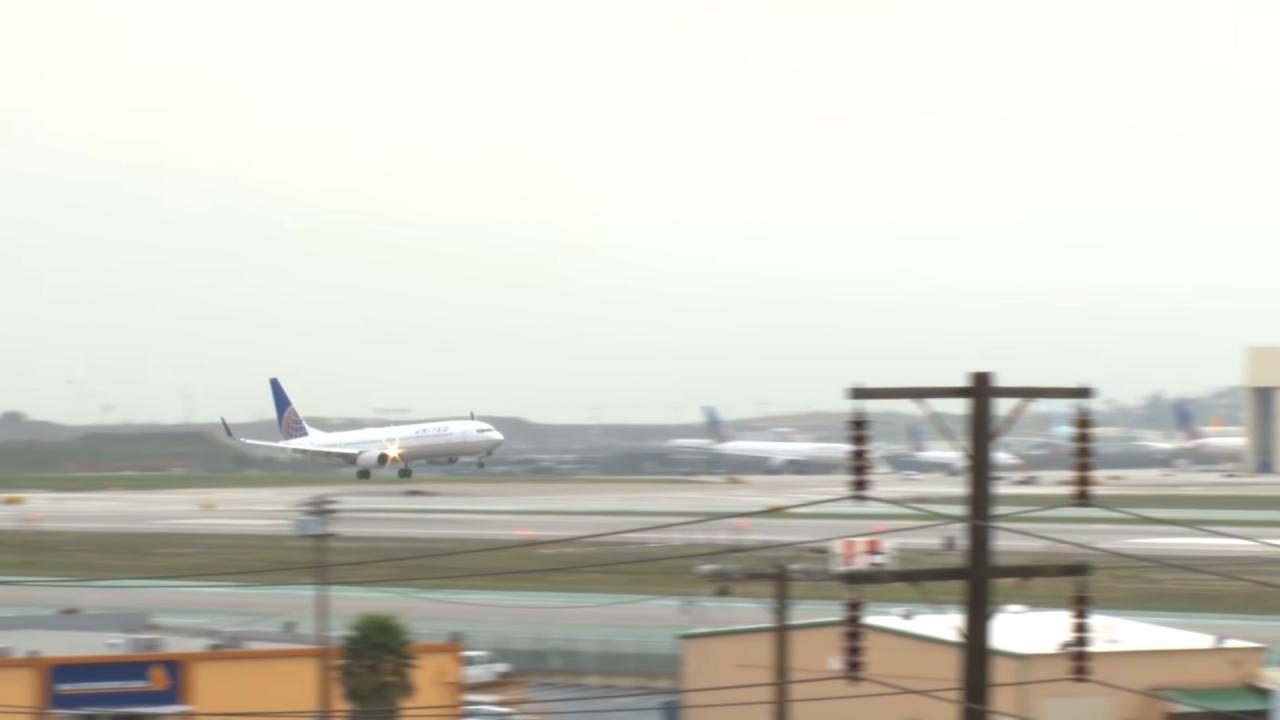Airplane: (212, 365, 519, 495)
